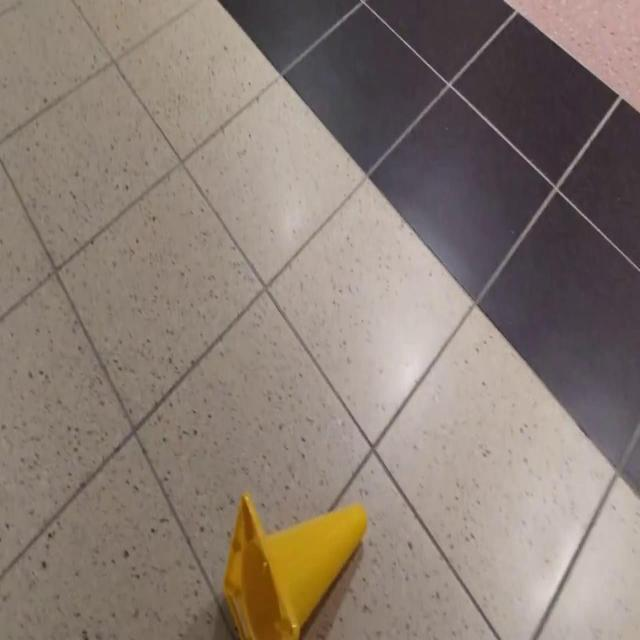frc_cone: (221, 490, 368, 640)
